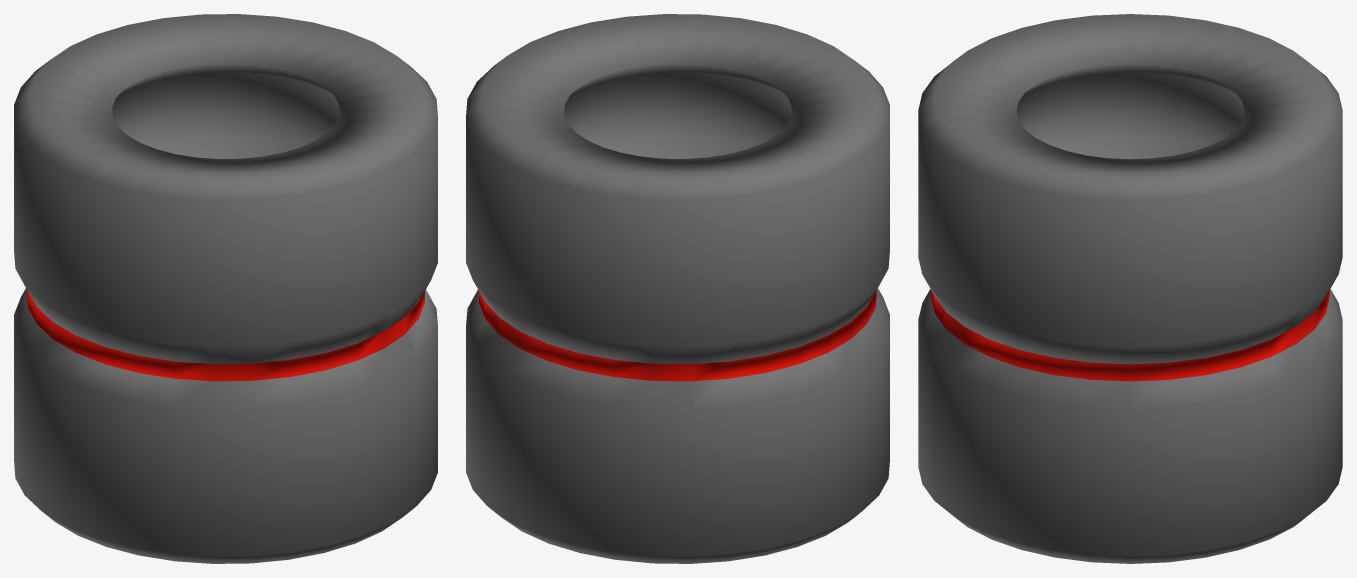
The model's file is tires.glb.
3 views of the same model, side by side, from view 1: azimuth 30°, elevation 25°; view 2: azimuth 150°, elevation 25°; view 3: azimuth 270°, elevation 25° (orthographic).
Parts seen in each view (by area): view 1: Cylinder; view 2: Cylinder; view 3: Cylinder.
Part boxes in pixels (x1,y1,x2,y2): Cylinder: [14, 14, 437, 563]; Cylinder: [466, 14, 889, 563]; Cylinder: [918, 14, 1342, 563].
Size of what is drawn, in the model's own units: 2 by 2 by 2.
